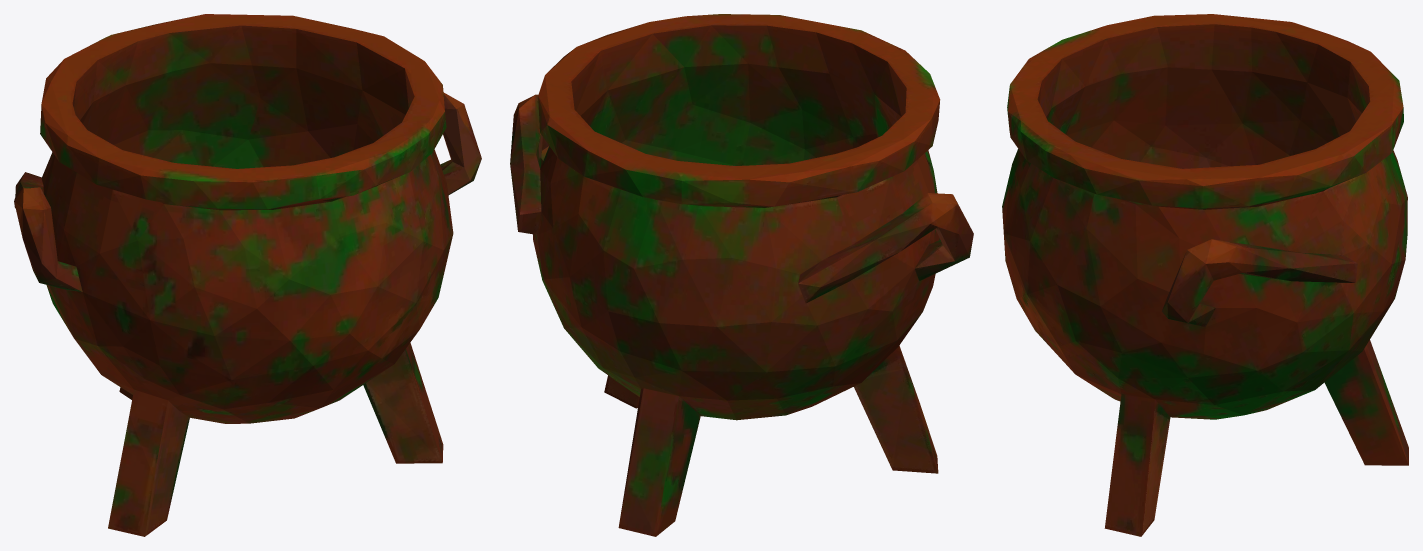
Rendered from cauldron_prop.glb.
3 renders of one model, left to right at view 1: azimuth 30°, elevation 25°; view 2: azimuth 150°, elevation 25°; view 3: azimuth 270°, elevation 25°, orthographic.
Size of the model in its own units: 1.97 by 1.56 by 1.59.
1 material, 1 textured.
